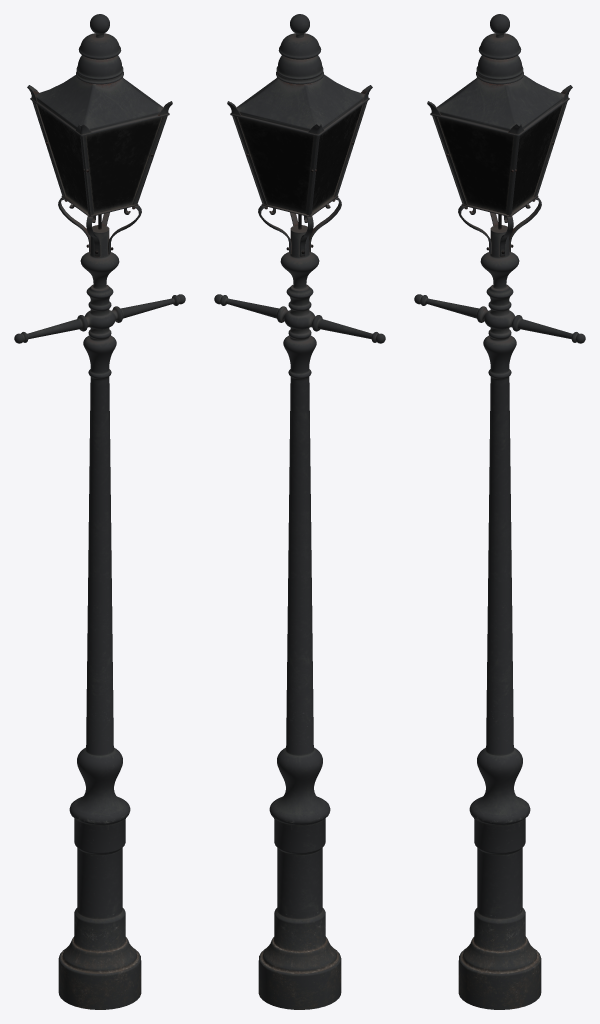
The model's file is gas-lamp-post.glb.
The picture shows the model from 3 angles, left to right: view 1: azimuth 30°, elevation 25°; view 2: azimuth 150°, elevation 25°; view 3: azimuth 330°, elevation 25°; orthographic projection.
Visible parts, largest first — view 1: street_lamp_01; view 2: street_lamp_01; view 3: street_lamp_01.
Part boxes in pixels (left/top/right/bottom): street_lamp_01: left=14, top=14, right=185, bottom=1009; street_lamp_01: left=214, top=14, right=385, bottom=1009; street_lamp_01: left=414, top=14, right=585, bottom=1009.
Size of the model in its own units: 0.7043 by 3.87 by 0.3865.
3 materials, 3 textured.
